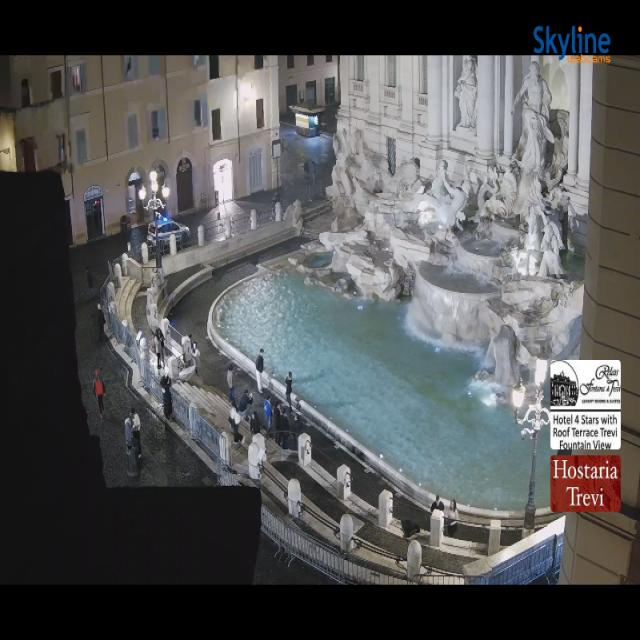person: (229, 400, 243, 443), (160, 374, 173, 419), (93, 371, 105, 418), (276, 408, 290, 448), (131, 408, 141, 458), (448, 499, 459, 536), (238, 389, 252, 418), (96, 304, 105, 343), (124, 413, 134, 448), (401, 519, 420, 537), (154, 330, 162, 369), (256, 349, 263, 392), (272, 400, 280, 437), (192, 342, 201, 374), (86, 266, 95, 298), (304, 160, 311, 201), (227, 364, 234, 401), (264, 396, 271, 432), (286, 371, 292, 410), (250, 411, 260, 434), (292, 415, 302, 437), (431, 496, 444, 512), (285, 433, 297, 450), (312, 162, 315, 196)
